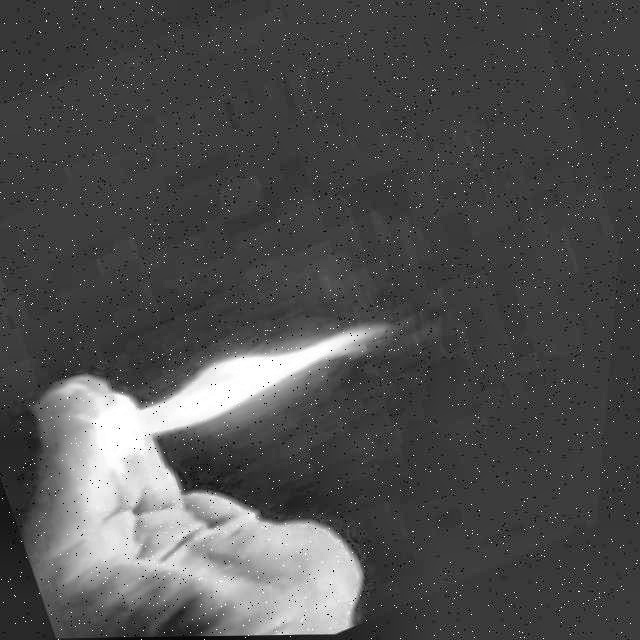Fire: (84, 289, 415, 477)
